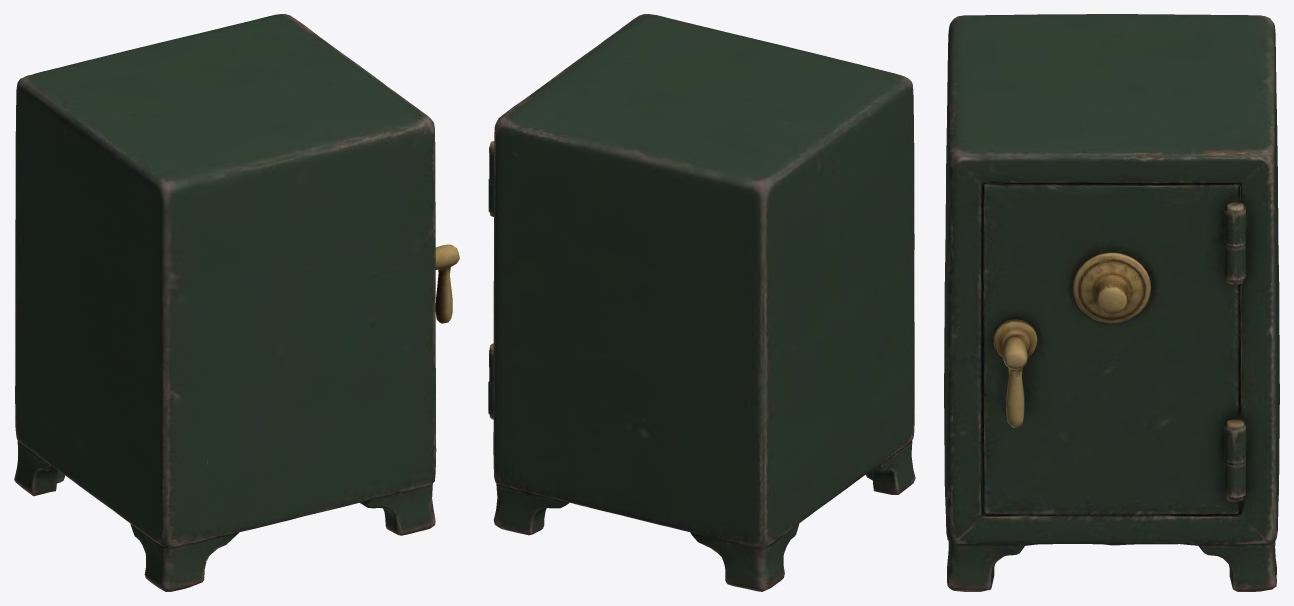
Rendered from prop_safe.glb.
3 renders of one model, left to right at view 1: azimuth 30°, elevation 25°; view 2: azimuth 150°, elevation 25°; view 3: azimuth 270°, elevation 25°, orthographic. The views are drawn at different scales.
Parts seen in each view (by area): view 1: tripo_node_9c2f198d-3637-4687-a711-8befe0902be4; view 2: tripo_node_9c2f198d-3637-4687-a711-8befe0902be4; view 3: tripo_node_9c2f198d-3637-4687-a711-8befe0902be4.
Boxes of the visible parts, x1,y1,x2,y2 form: tripo_node_9c2f198d-3637-4687-a711-8befe0902be4: (14,14,459,591); tripo_node_9c2f198d-3637-4687-a711-8befe0902be4: (488,14,915,591); tripo_node_9c2f198d-3637-4687-a711-8befe0902be4: (944,14,1279,591).
Size of the model in its own units: 0.8301 by 1 by 0.6907.
1 material, 1 textured.
